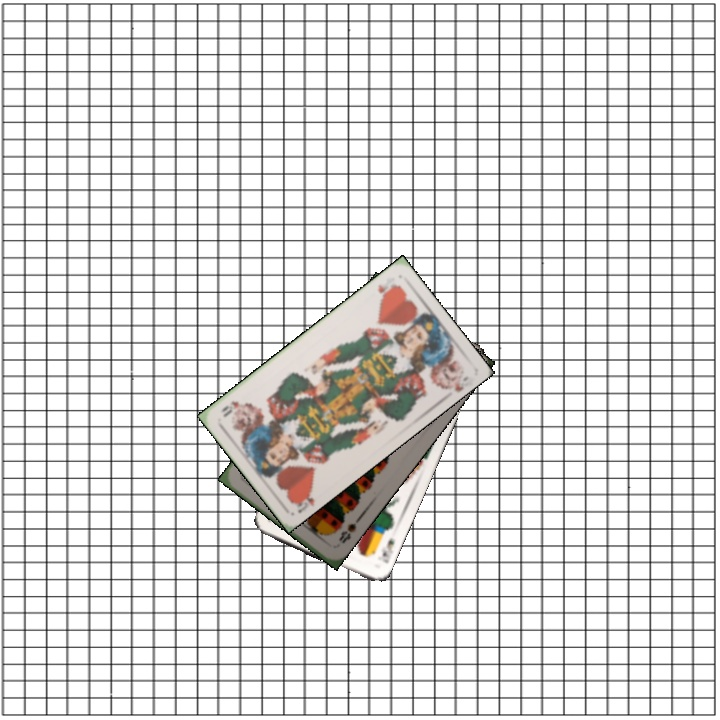EK: (373, 533, 397, 566)
HO: (288, 483, 317, 516), (373, 273, 402, 303)
S8: (335, 515, 362, 546)
